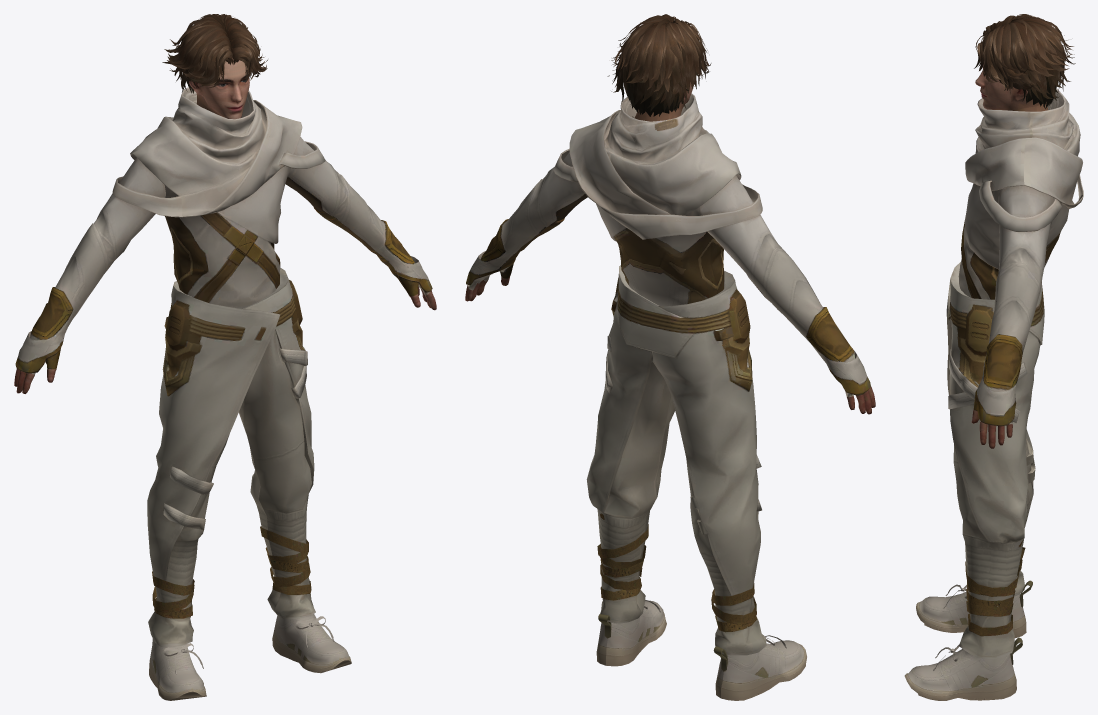
Rendered from free_fire_ramandhan_2025_character_3d.glb.
3 renders of one model, left to right at view 1: azimuth 30°, elevation 25°; view 2: azimuth 150°, elevation 25°; view 3: azimuth 270°, elevation 25°, orthographic. The views are drawn at different scales.
Parts seen in each view (by area): view 1: Mesh_0012.rip_mat0.009_0, Mesh_0013.rip_mat0.010_0, Mesh_0011.rip_mat0.008_0, Mesh_0020.rip_mat0.011_0, Mesh_0010.rip_mat0.007_0; view 2: Mesh_0012.rip_mat0.009_0, Mesh_0013.rip_mat0.010_0, Mesh_0020.rip_mat0.011_0, Mesh_0011.rip_mat0.008_0, Mesh_0010.rip_mat0.007_0; view 3: Mesh_0013.rip_mat0.010_0, Mesh_0012.rip_mat0.009_0, Mesh_0011.rip_mat0.008_0, Mesh_0020.rip_mat0.011_0, Mesh_0010.rip_mat0.007_0.
Part boxes in pixels (left/top/right/bottom): Mesh_0012.rip_mat0.009_0: left=147, top=268, right=315, bottom=646; Mesh_0013.rip_mat0.010_0: left=15, top=87, right=432, bottom=375; Mesh_0011.rip_mat0.008_0: left=149, top=614, right=351, bottom=700; Mesh_0020.rip_mat0.011_0: left=162, top=14, right=267, bottom=93; Mesh_0010.rip_mat0.007_0: left=14, top=58, right=436, bottom=393; Mesh_0012.rip_mat0.009_0: left=586, top=265, right=766, bottom=655; Mesh_0013.rip_mat0.010_0: left=466, top=93, right=870, bottom=397; Mesh_0020.rip_mat0.011_0: left=607, top=14, right=711, bottom=116; Mesh_0011.rip_mat0.008_0: left=596, top=599, right=806, bottom=700; Mesh_0010.rip_mat0.007_0: left=465, top=82, right=875, bottom=414; Mesh_0013.rip_mat0.010_0: left=958, top=88, right=1083, bottom=425; Mesh_0012.rip_mat0.009_0: left=946, top=262, right=1044, bottom=658; Mesh_0011.rip_mat0.008_0: left=904, top=580, right=1032, bottom=700; Mesh_0020.rip_mat0.011_0: left=974, top=14, right=1075, bottom=109; Mesh_0010.rip_mat0.007_0: left=971, top=60, right=1047, bottom=448.
Bounding box in the file's own units: 5.51 × 8.37 × 2.1.
5 materials, 5 textured.
